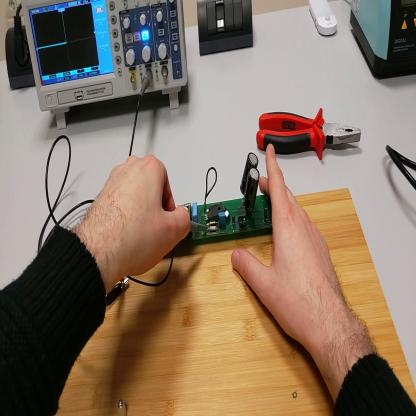hand: (231, 144, 346, 370), (88, 154, 189, 284)
high voltage board: (179, 153, 272, 242)
oscilloscope: (22, 3, 190, 131)
oscilloscope probe tip: (191, 223, 205, 231)
pliers: (256, 107, 365, 159)
socket: (3, 23, 38, 92)
welder station: (349, 1, 416, 82)
working area: (53, 189, 416, 415)
